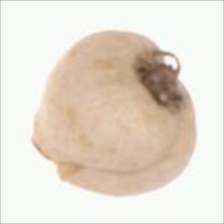L3: (30, 131, 79, 185)
L4: (30, 31, 197, 197)
